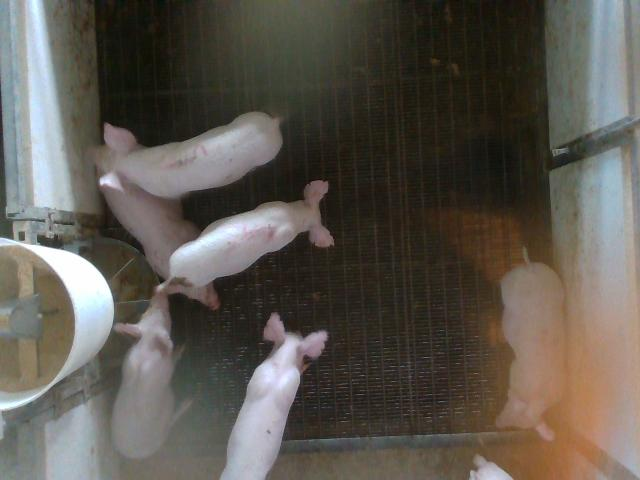pig-3: (94, 112, 282, 198)
pig-5: (162, 181, 333, 292)
